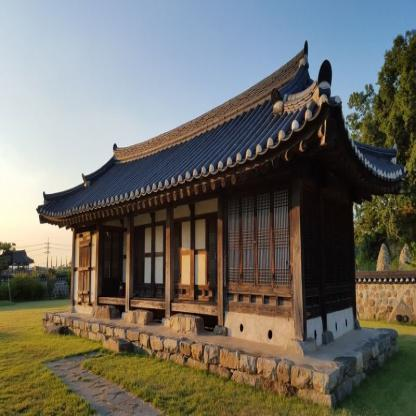Building Outline: (35, 40, 409, 356)
Door: (103, 230, 121, 294), (207, 217, 223, 285), (164, 221, 180, 283), (78, 234, 92, 300), (130, 228, 144, 279)
Door Hole: (170, 197, 218, 306), (129, 207, 166, 302), (98, 216, 126, 298)
Facade: (71, 171, 303, 354)
Floor Slab: (71, 294, 303, 324)
Pillar: (217, 196, 223, 325), (165, 206, 170, 318), (126, 215, 130, 312), (95, 221, 99, 306)
Raised Floor: (71, 171, 303, 313)
Roof: (35, 40, 409, 230)
Window: (228, 187, 289, 285)
